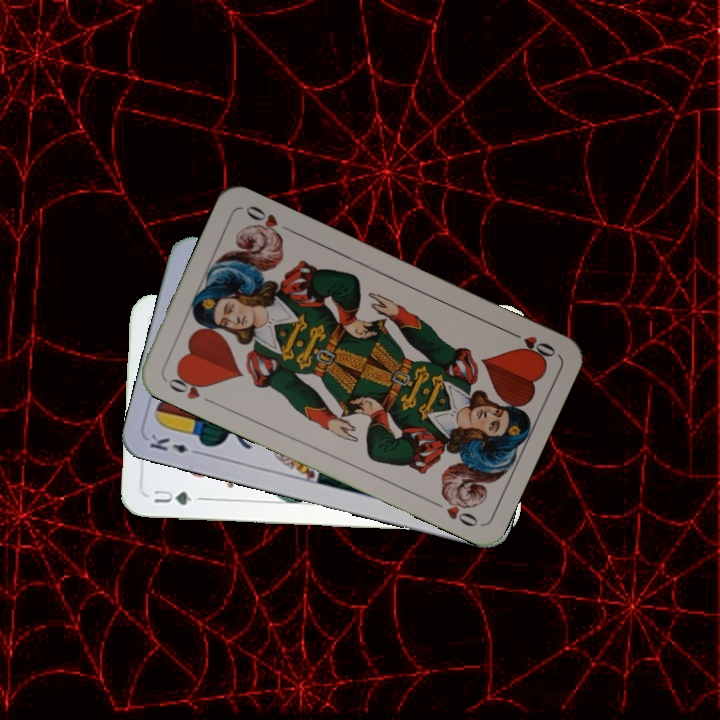EK: (145, 430, 204, 458)
GU: (150, 486, 194, 508)
HO: (161, 368, 217, 406), (503, 326, 558, 362)
